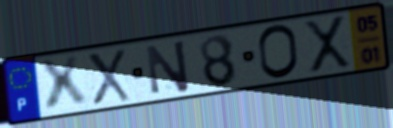8: (198, 33, 238, 89)
N: (143, 38, 192, 97)
O: (256, 23, 302, 82)
X: (35, 53, 91, 116), (301, 13, 354, 76), (84, 47, 133, 107)
